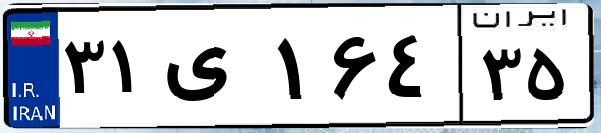1: (270, 28, 330, 110), (110, 28, 158, 98)
3: (57, 26, 110, 100), (475, 38, 525, 113)
4: (385, 28, 445, 110)
5: (525, 38, 570, 115)
6: (330, 28, 385, 110)
ی: (158, 20, 270, 120)
